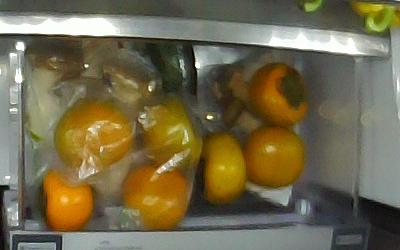persimmon: (243, 126, 308, 188), (250, 62, 309, 127), (196, 131, 247, 204)
persimmon_vinyl: (55, 100, 131, 168), (139, 96, 203, 169), (122, 166, 187, 228), (41, 171, 93, 228)
